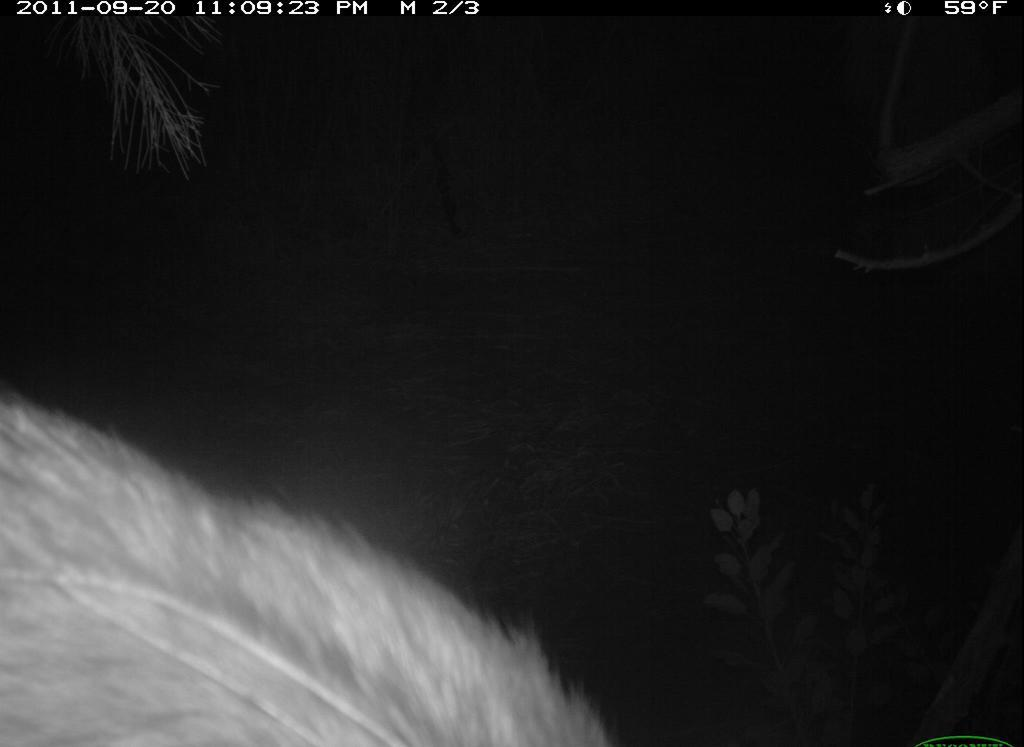raccoon: (2, 347, 630, 747)
